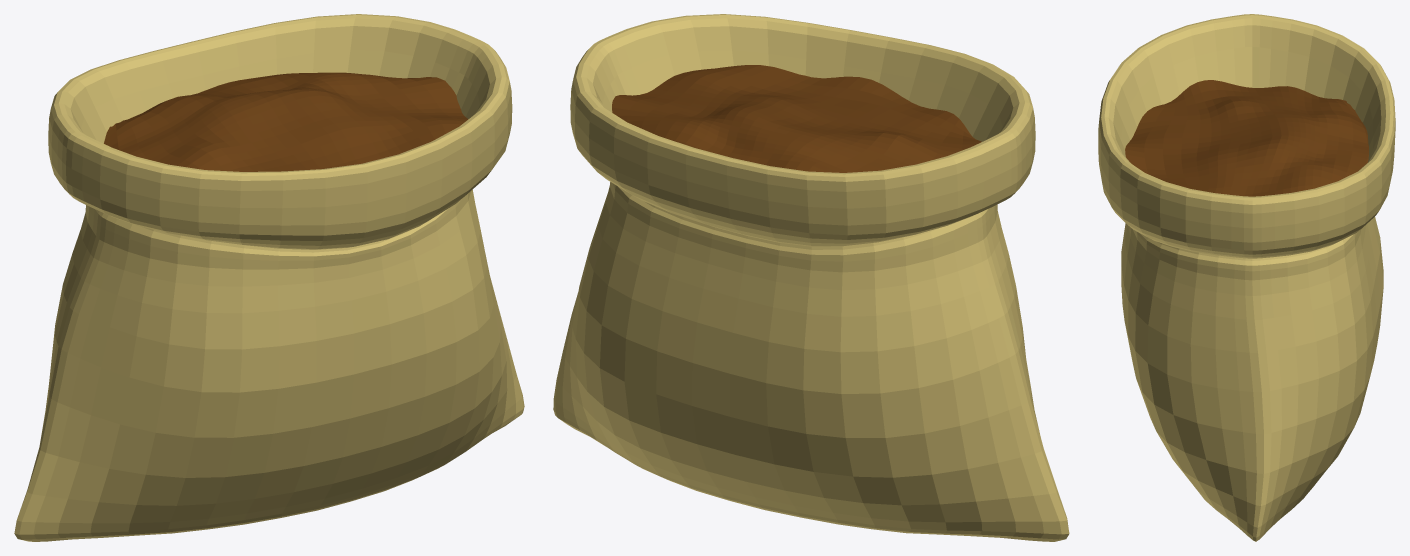
Rendered from seeds_packet (1).fbx.
3 renders of one model, left to right at view 1: azimuth 30°, elevation 25°; view 2: azimuth 150°, elevation 25°; view 3: azimuth 270°, elevation 25°, orthographic. The views are drawn at different scales.
Parts seen in each view (by area): view 1: Circle.003; view 2: Circle.003; view 3: Circle.003.
Boxes of the visible parts, <box> form: Circle.003: <box>14,14,524,541</box>; Circle.003: <box>553,14,1069,541</box>; Circle.003: <box>1098,14,1395,541</box>.
Bounding box in the file's own units: 67.55 × 50.89 × 39.42.
